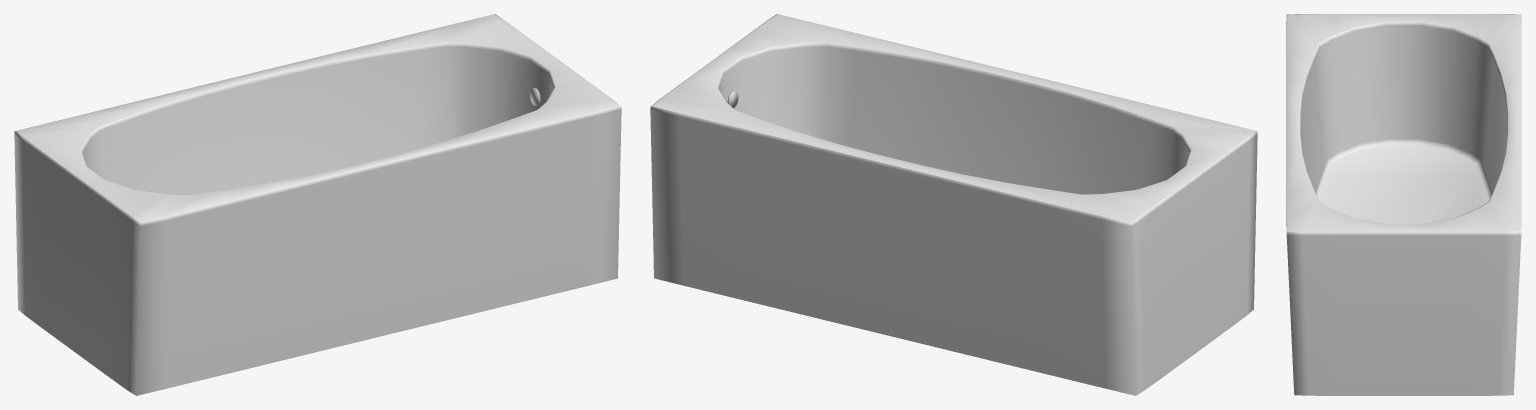
Rendered from BathTub03.fbx.
3 renders of one model, left to right at view 1: azimuth 30°, elevation 25°; view 2: azimuth 150°, elevation 25°; view 3: azimuth 270°, elevation 25°, orthographic. The views are drawn at different scales.
Visible parts, largest first — view 1: Bathtub03; view 2: Bathtub03; view 3: Bathtub03.
Part boxes in pixels (box(x1,y1,x2,y2)): Bathtub03: box(14, 14, 621, 395); Bathtub03: box(650, 14, 1257, 395); Bathtub03: box(1286, 14, 1521, 395).
Size of the model in its own units: 136 by 47.2 by 61.53.
